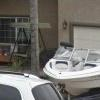Boat: (38, 35, 100, 100)
